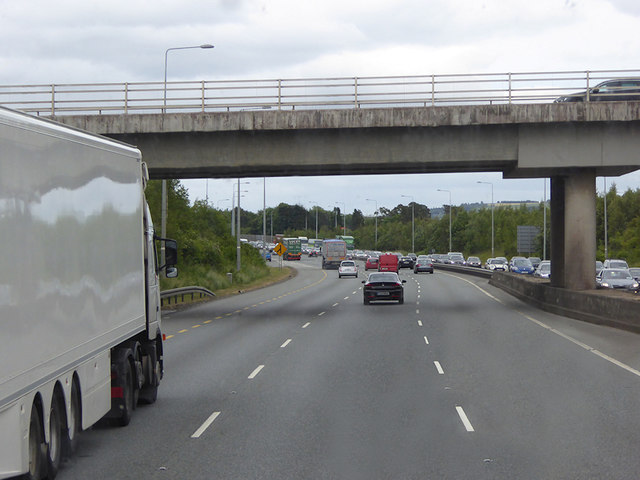bridge: (1, 82, 638, 177)
